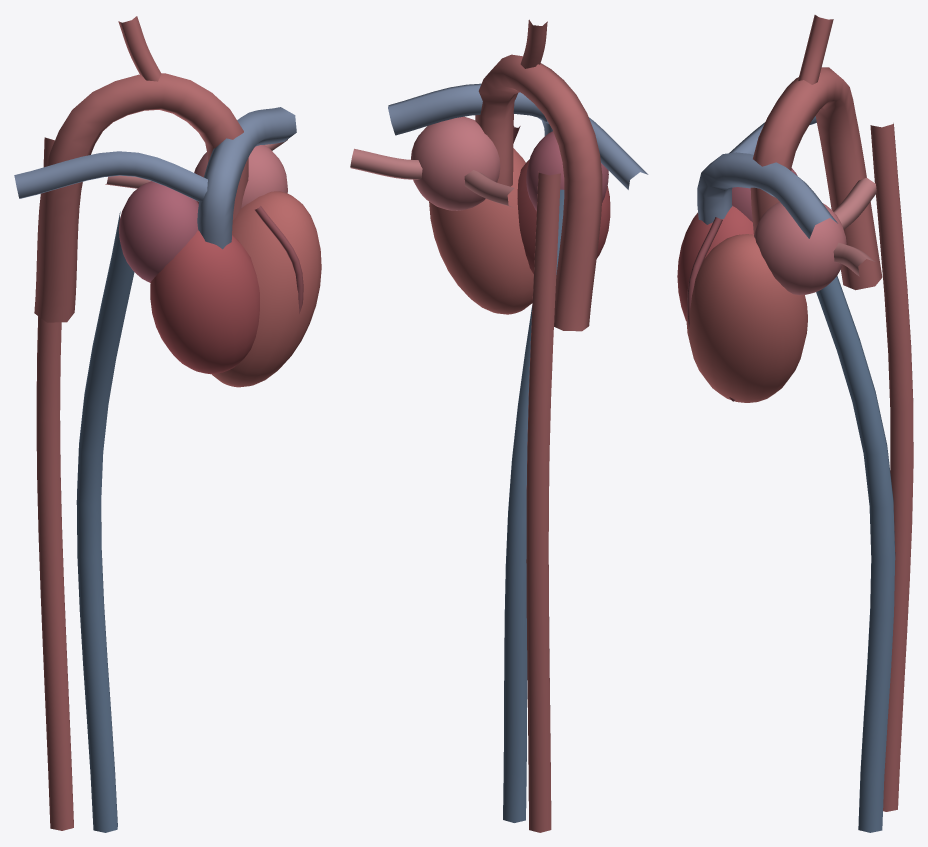
Rendered from heart.glb.
3 views of the same model, side by side, from view 1: azimuth 30°, elevation 25°; view 2: azimuth 150°, elevation 25°; view 3: azimuth 270°, elevation 25° (orthographic). The views are drawn at different scales.
Visible parts, largest first — view 1: right-atrium-320, aorta-285, aorta-319, right-ventricle-282, left-ventricle-281, right-atrium-284, pulmonary-artery-287, pulmonary-artery-288, left-atrium-283, aorta-286, left-ventricle-293; view 2: aorta-319, aorta-285, right-atrium-320, left-ventricle-281, left-atrium-283, pulmonary-artery-287, right-ventricle-282, right-atrium-284, pulmonary-artery-288, pulmonary-veins-290, pulmonary-veins-289, aorta-286; view 3: left-ventricle-281, right-atrium-320, aorta-319, aorta-285, left-atrium-283, pulmonary-artery-287, right-ventricle-282, aorta-286, pulmonary-veins-289, left-ventricle-293, pulmonary-veins-290, right-atrium-284 (+1 smaller).
Part boxes in pixels (<box>): right-atrium-320: <box>76,211,134,832</box>; aorta-285: <box>34,73,248,322</box>; aorta-319: <box>36,137,73,830</box>; right-ventricle-282: <box>150,230,259,374</box>; left-ventricle-281: <box>211,191,321,387</box>; right-atrium-284: <box>118,181,198,282</box>; pulmonary-artery-287: <box>197,107,296,249</box>; pulmonary-artery-288: <box>14,151,207,202</box>; left-atrium-283: <box>194,145,287,207</box>; aorta-286: <box>118,16,161,81</box>; left-ventricle-293: <box>254,206,303,313</box>; aorta-319: <box>526,171,560,832</box>; aorta-285: <box>475,54,602,331</box>; right-atrium-320: <box>503,189,564,822</box>; left-ventricle-281: <box>429,148,533,314</box>; left-atrium-283: <box>411,116,500,210</box>; pulmonary-artery-287: <box>388,83,552,136</box>; right-ventricle-282: <box>517,159,610,273</box>; right-atrium-284: <box>526,131,608,210</box>; pulmonary-artery-288: <box>544,117,648,189</box>; pulmonary-veins-290: <box>350,148,422,179</box>; pulmonary-veins-289: <box>464,170,514,207</box>; aorta-286: <box>520,19,547,68</box>; left-ventricle-281: <box>686,234,807,402</box>; right-atrium-320: <box>816,276,895,832</box>; aorta-319: <box>870,123,913,811</box>; aorta-285: <box>750,67,882,290</box>; left-atrium-283: <box>754,202,846,295</box>; pulmonary-artery-287: <box>697,152,837,238</box>; right-ventricle-282: <box>677,206,753,321</box>; aorta-286: <box>798,15,833,84</box>; pulmonary-veins-289: <box>833,177,876,229</box>; left-ventricle-293: <box>687,217,736,401</box>; pulmonary-veins-290: <box>833,242,875,276</box>; right-atrium-284: <box>732,168,797,222</box>.
Bounding box in the file's own units: 0.744 × 2.02 × 0.531.
